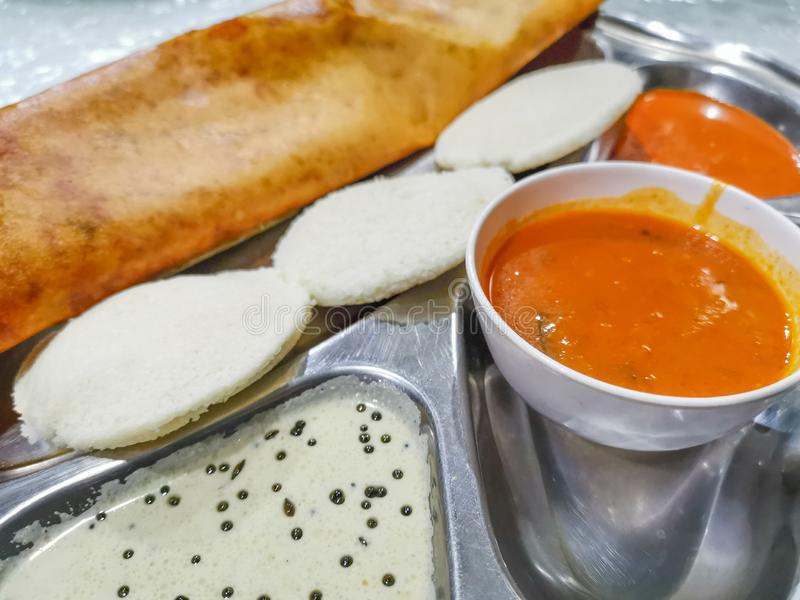dosa: (2, 1, 627, 363)
